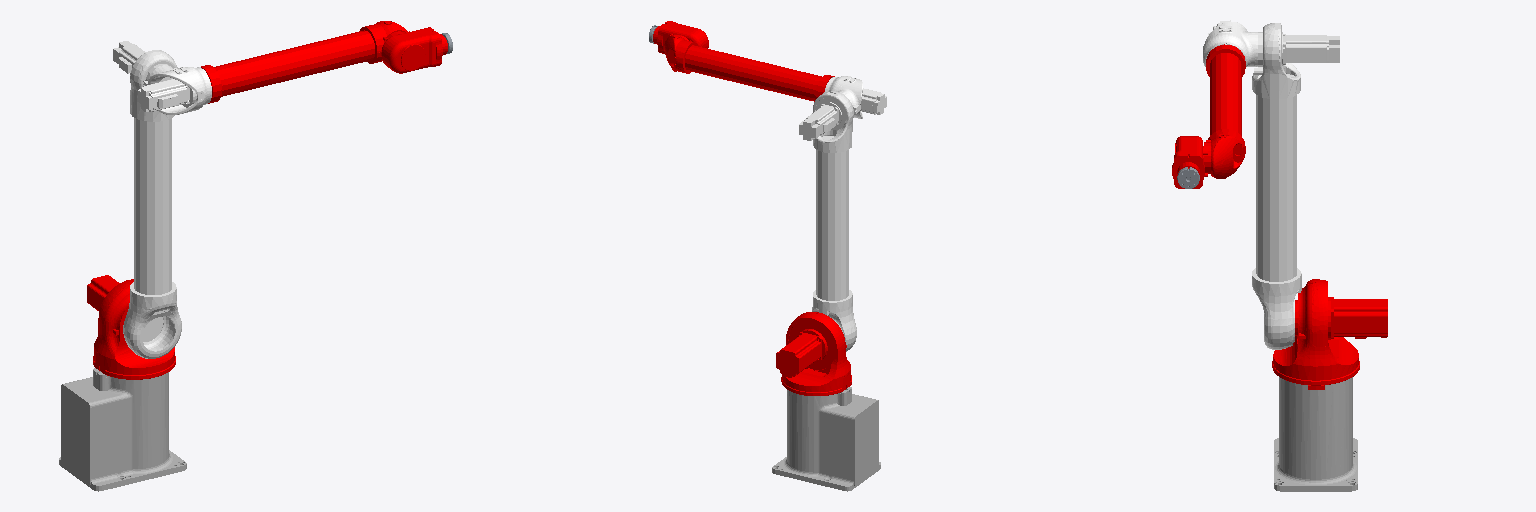
robot.urdf — URDFV3:
<robot
  name="URDFV3">
  <link
    name="base_link">
    <inertial>
      <origin
        xyz="-0.0404819765185818 9.86709441930245E-09 0.135810871548215"
        rpy="0 0 0" />
      <mass
        value="10.9537085052775" />
      <inertia
        ixx="0.0938610030433479"
        ixy="2.79631623947139E-06"
        ixz="-0.00583069999280698"
        iyy="0.127471342059364"
        iyz="-4.43327832390823E-09"
        izz="0.0805342467666002" />
    </inertial>
    <visual>
      <origin
        xyz="0 0 0"
        rpy="0 0 0" />
      <geometry>
        <mesh
          filename="package://URDFV3/meshes/base_link.STL" />
      </geometry>
      <material
        name="">
        <color
          rgba="0.752941176470588 0.752941176470588 0.752941176470588 1" />
      </material>
    </visual>
    <collision>
      <origin
        xyz="0 0 0"
        rpy="0 0 0" />
      <geometry>
        <mesh
          filename="package://URDFV3/meshes/base_link.STL" />
      </geometry>
    </collision>
  </link>
  <link
    name="link1">
    <inertial>
      <origin
        xyz="0.000232368620479607 0.0163304681479464 -0.0429690602674994"
        rpy="0 0 0" />
      <mass
        value="4.59276430200574" />
      <inertia
        ixx="0.0311200335571171"
        ixy="1.75303778204149E-05"
        ixz="9.30496066133545E-05"
        iyy="0.027062961570959"
        iyz="-0.00331383168985909"
        izz="0.0249050231987757" />
    </inertial>
    <visual>
      <origin
        xyz="0 0 0"
        rpy="0 0 0" />
      <geometry>
        <mesh
          filename="package://URDFV3/meshes/link1.STL" />
      </geometry>
      <material
        name="">
        <color
          rgba="1 0 0 1" />
      </material>
    </visual>
    <collision>
      <origin
        xyz="0 0 0"
        rpy="0 0 0" />
      <geometry>
        <mesh
          filename="package://URDFV3/meshes/link1.STL" />
      </geometry>
    </collision>
  </link>
  <joint
    name="j1"
    type="revolute">
    <origin
      xyz="0 0 0.4205"
      rpy="0 0 0" />
    <parent
      link="base_link" />
    <child
      link="link1" />
    <axis
      xyz="0 0 1" />
    <limit
      lower="0"
      upper="0"
      effort="0"
      velocity="0" />
  </joint>
  <link
    name="link2">
    <inertial>
      <origin
        xyz="-0.000111323508427222 -0.394642177725349 -0.0909848584083998"
        rpy="0 0 0" />
      <mass
        value="6.56009347031242" />
      <inertia
        ixx="0.381831864672227"
        ixy="-0.000223190708863865"
        ixz="5.12287412734383E-05"
        iyy="0.0131883649257066"
        iyz="0.00653976735321046"
        izz="0.379772548665346" />
    </inertial>
    <visual>
      <origin
        xyz="0 0 0"
        rpy="0 0 0" />
      <geometry>
        <mesh
          filename="package://URDFV3/meshes/link2.STL" />
      </geometry>
      <material
        name="">
        <color
          rgba="0.950980392156863 0.950980392156863 0.950980392156863 1" />
      </material>
    </visual>
    <collision>
      <origin
        xyz="0 0 0"
        rpy="0 0 0" />
      <geometry>
        <mesh
          filename="package://URDFV3/meshes/link2.STL" />
      </geometry>
    </collision>
  </link>
  <joint
    name="j2"
    type="revolute">
    <origin
      xyz="0 0 0"
      rpy="-1.5707963267949 0 0" />
    <parent
      link="link1" />
    <child
      link="link2" />
    <axis
      xyz="0 0 -1" />
    <limit
      lower="0"
      upper="0"
      effort="0"
      velocity="0" />
  </joint>
  <link
    name="link3">
    <inertial>
      <origin
        xyz="-0.00353726408860074 4.76623273837351E-05 -0.115064858556159"
        rpy="0 0 0" />
      <mass
        value="1.11115013220264" />
      <inertia
        ixx="0.00181207507133954"
        ixy="8.15897684400936E-07"
        ixz="-8.10607375587923E-05"
        iyy="0.00341914497808482"
        iyz="2.61386021556328E-08"
        izz="0.0030405654601453" />
    </inertial>
    <visual>
      <origin
        xyz="0 0 0"
        rpy="0 0 0" />
      <geometry>
        <mesh
          filename="package://URDFV3/meshes/link3.STL" />
      </geometry>
      <material
        name="">
        <color
          rgba="1 1 1 1" />
      </material>
    </visual>
    <collision>
      <origin
        xyz="0 0 0"
        rpy="0 0 0" />
      <geometry>
        <mesh
          filename="package://URDFV3/meshes/link3.STL" />
      </geometry>
    </collision>
  </link>
  <joint
    name="j3"
    type="revolute">
    <origin
      xyz="0 -0.725999999972 -0.0965"
      rpy="0 5.66440318679191E-17 3.14159265358979" />
    <parent
      link="link2" />
    <child
      link="link3" />
    <axis
      xyz="0 0 -1" />
    <limit
      lower="0"
      upper="0"
      effort="0"
      velocity="0" />
  </joint>
  <link
    name="link4">
    <inertial>
      <origin
        xyz="0.00233159545283335 4.62710434190328E-07 0.374965317889783"
        rpy="0 0 0" />
      <mass
        value="3.18597659613043" />
      <inertia
        ixx="0.10055621743637"
        ixy="-8.94800167214255E-09"
        ixz="-0.00192678399062489"
        iyy="0.100584424936482"
        iyz="9.85974868685574E-07"
        izz="0.00297677729718624" />
    </inertial>
    <visual>
      <origin
        xyz="0 0 0"
        rpy="0 0 0" />
      <geometry>
        <mesh
          filename="package://URDFV3/meshes/link4.STL" />
      </geometry>
      <material
        name="">
        <color
          rgba="1 0 0 1" />
      </material>
    </visual>
    <collision>
      <origin
        xyz="0 0 0"
        rpy="0 0 0" />
      <geometry>
        <mesh
          filename="package://URDFV3/meshes/link4.STL" />
      </geometry>
    </collision>
  </link>
  <joint
    name="j4"
    type="revolute">
    <origin
      xyz="0 0 -0.124499992855"
      rpy="3.14159265358979 1.5707963267949 0" />
    <parent
      link="link3" />
    <child
      link="link4" />
    <axis
      xyz="0 0 1" />
    <limit
      lower="0"
      upper="0"
      effort="0"
      velocity="0" />
  </joint>
  <link
    name="link5">
    <inertial>
      <origin
        xyz="-1.34240621818549E-05 -0.00106643711491694 0.0215335991467245"
        rpy="0 0 0" />
      <mass
        value="0.86840407124939" />
      <inertia
        ixx="0.00196991648065678"
        ixy="1.57021217871851E-08"
        ixz="6.38380114395053E-07"
        iyy="0.00215689936272496"
        iyz="-1.86461968064827E-05"
        izz="0.000809062204367195" />
    </inertial>
    <visual>
      <origin
        xyz="0 0 0"
        rpy="0 0 0" />
      <geometry>
        <mesh
          filename="package://URDFV3/meshes/link5.STL" />
      </geometry>
      <material
        name="">
        <color
          rgba="1 0 0 1" />
      </material>
    </visual>
    <collision>
      <origin
        xyz="0 0 0"
        rpy="0 0 0" />
      <geometry>
        <mesh
          filename="package://URDFV3/meshes/link5.STL" />
      </geometry>
    </collision>
  </link>
  <joint
    name="j5"
    type="revolute">
    <origin
      xyz="0.091 0 0.6305"
      rpy="0 1.3773E-08 -1.5708" />
    <parent
      link="link4" />
    <child
      link="link5" />
    <axis
      xyz="0 1 0" />
    <limit
      effort="0"
      velocity="0" />
    <limit
      lower="0"
      upper="0"
      effort="0"
      velocity="0" />
  </joint>
  <link
    name="link6">
    <inertial>
      <origin
        xyz="-0.000122455677268096 -5.15143483426073E-14 0.115764948555663"
        rpy="0 0 0" />
      <mass
        value="0.027076917682369" />
      <inertia
        ixx="5.53744893138591E-06"
        ixy="1.53055063769328E-17"
        ixz="-6.22111446583025E-09"
        iyy="5.33723234026597E-06"
        iyz="3.88316153614824E-18"
        izz="1.01791524142717E-05" />
    </inertial>
    <visual>
      <origin
        xyz="0 0 0"
        rpy="0 0 0" />
      <geometry>
        <mesh
          filename="package://URDFV3/meshes/link6.STL" />
      </geometry>
      <material
        name="">
        <color
          rgba="0.615686274509804 0.643137254901961 0.674509803921569 1" />
      </material>
    </visual>
    <collision>
      <origin
        xyz="0 0 0"
        rpy="0 0 0" />
      <geometry>
        <mesh
          filename="package://URDFV3/meshes/link6.STL" />
      </geometry>
    </collision>
  </link>
  <joint
    name="j6"
    type="revolute">
    <origin
      xyz="0 0 0"
      rpy="0 0 0" />
    <parent
      link="link5" />
    <child
      link="link6" />
    <axis
      xyz="0 0 1" />
    <limit
      lower="0"
      upper="0"
      effort="0"
      velocity="0" />
  </joint>
</robot>

--- Render facts (derived) ---
Views: 3 orthographic renders of the robot side by side, from view 1: azimuth 30°, elevation 25°; view 2: azimuth 150°, elevation 25°; view 3: azimuth 270°, elevation 25°.
Robot: URDFV3 — 7 links, 6 joints (6 revolute); root link base_link; default pose: every joint at zero.
Links seen in each view (by area): view 1: link2, base_link, link4, link1, link3, link5; view 2: link2, base_link, link1, link4, link3, link5; view 3: link2, base_link, link1, link4, link3, link5.
Boxes of the visible links, x1,y1,x2,y2 form: link2: (113,41,181,358); base_link: (59,368,186,491); link4: (201,21,407,103); link1: (87,275,175,379); link3: (137,65,211,114); link5: (381,27,447,73); link2: (799,91,856,351); base_link: (772,387,880,491); link1: (776,312,851,395); link4: (664,35,834,101); link3: (824,76,886,118); link5: (653,21,708,53); link2: (1252,23,1339,349); base_link: (1274,377,1357,491); link1: (1272,279,1387,389); link4: (1203,44,1245,178); link3: (1203,20,1257,66); link5: (1172,136,1207,188).
Size in the robot's own frame: 0.928 by 0.5294 by 1.21 metres.
7 mesh visuals loaded from 7 distinct referenced files (7 binary STL).